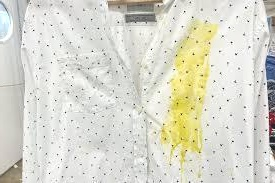mustard: (161, 22, 213, 175)
